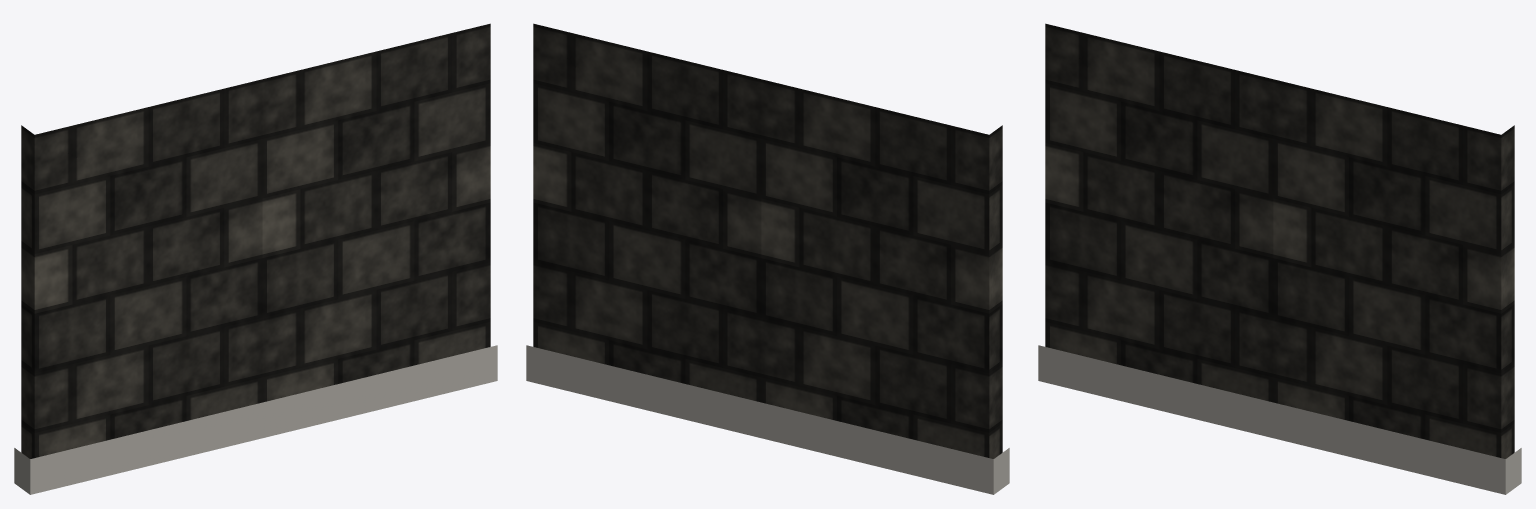
File: building_wall.glb
The picture shows the model from 3 angles, left to right: view 1: azimuth 30°, elevation 25°; view 2: azimuth 150°, elevation 25°; view 3: azimuth 330°, elevation 25°; orthographic projection.
Parts seen in each view (by area): view 1: prop; view 2: prop; view 3: prop.
Boxes of the visible parts, bbox=[...] form: prop: bbox=[14, 23, 497, 494]; prop: bbox=[526, 23, 1009, 494]; prop: bbox=[1038, 23, 1521, 494].
Size of the model in its own units: 4.1 by 3 by 0.24.
2 materials, 1 textured.
